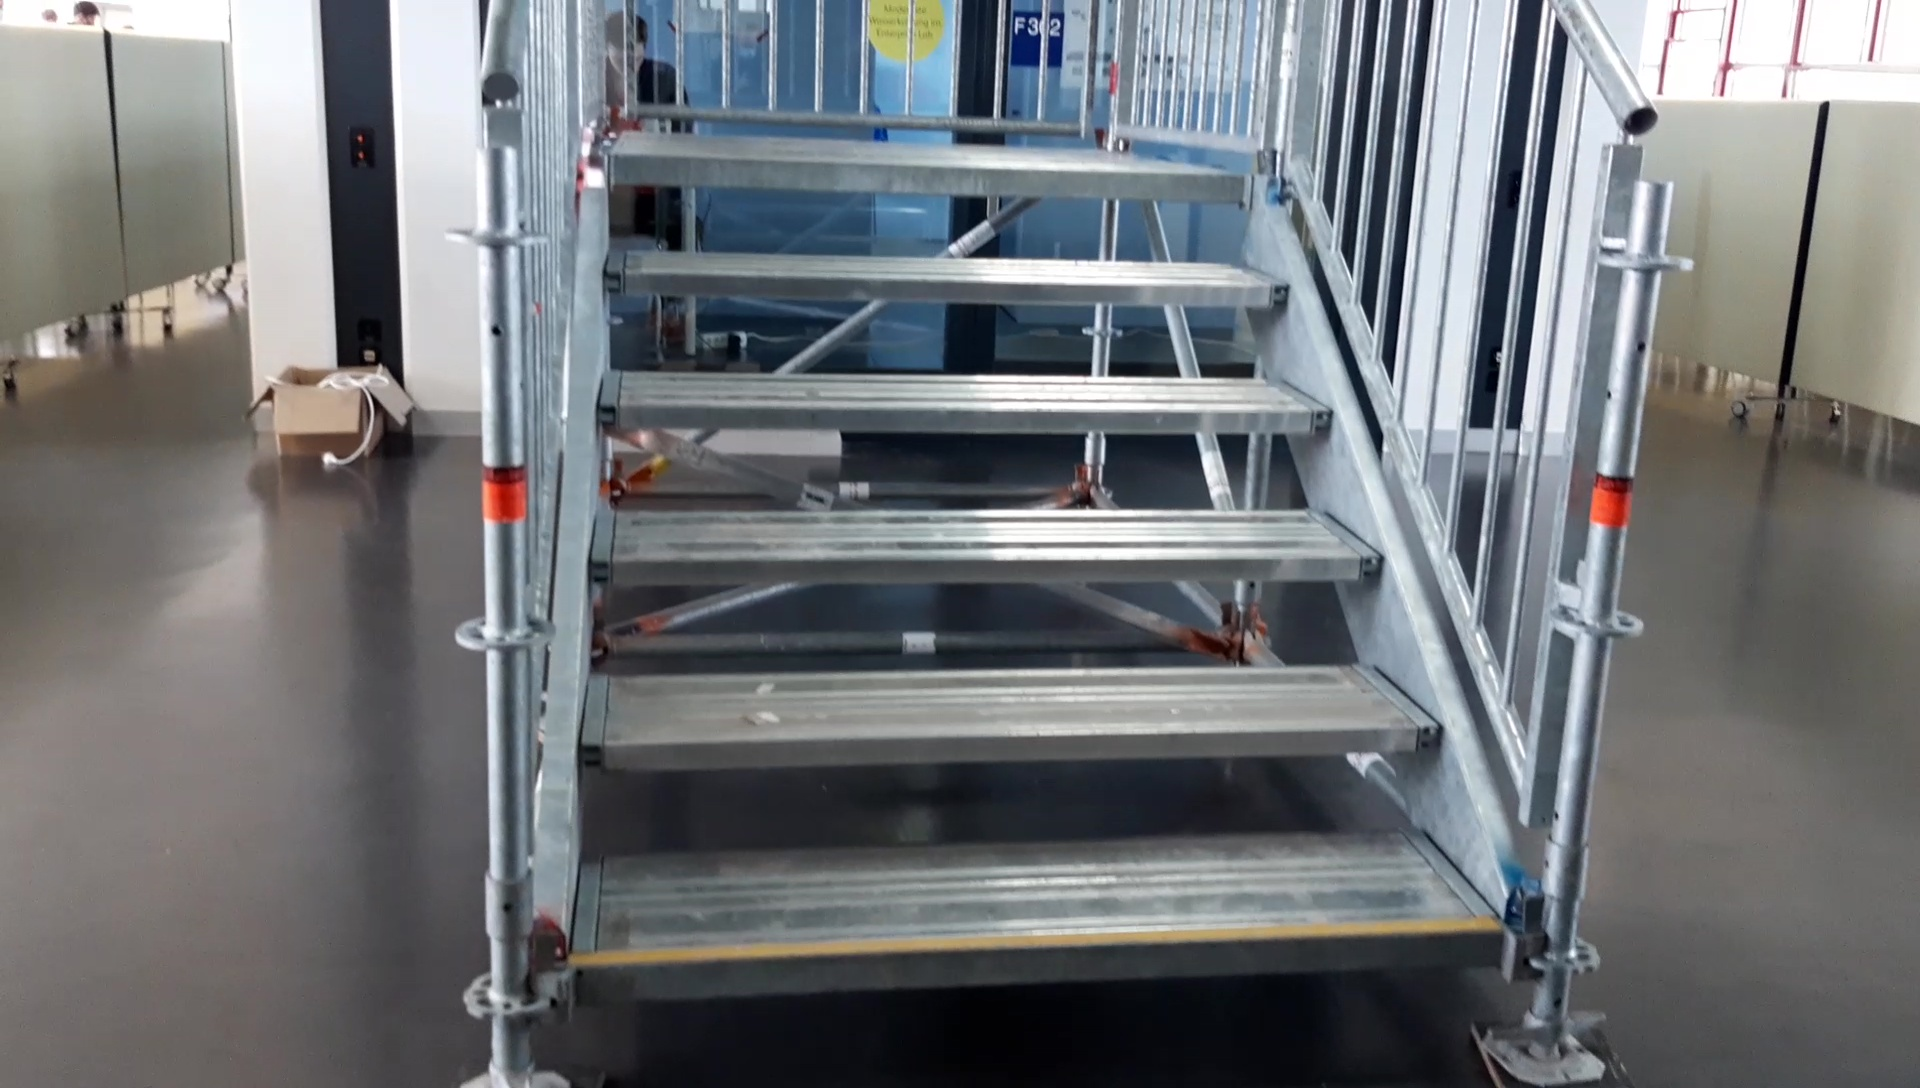edge: (575, 927, 1505, 998), (582, 721, 1443, 768), (611, 156, 1250, 204), (592, 553, 1381, 586), (605, 268, 1288, 305), (593, 402, 1332, 429)
stairs: (439, 5, 1636, 1088)
steps: (566, 145, 1510, 1010)
